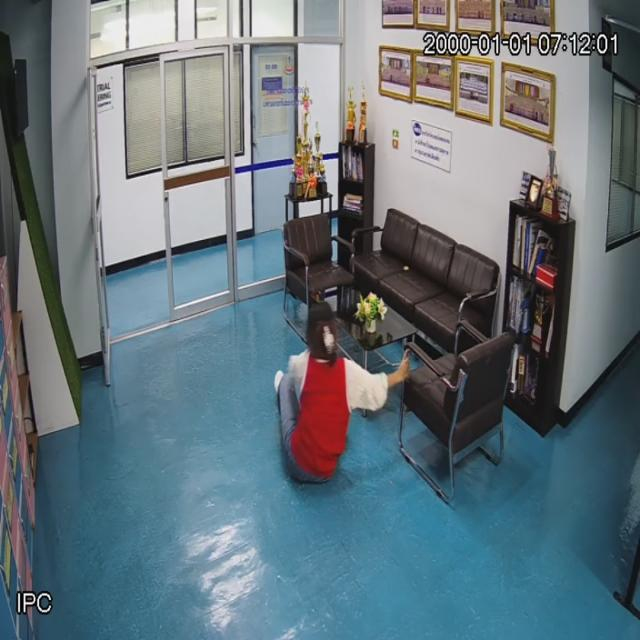normal: (267, 314, 392, 482)
